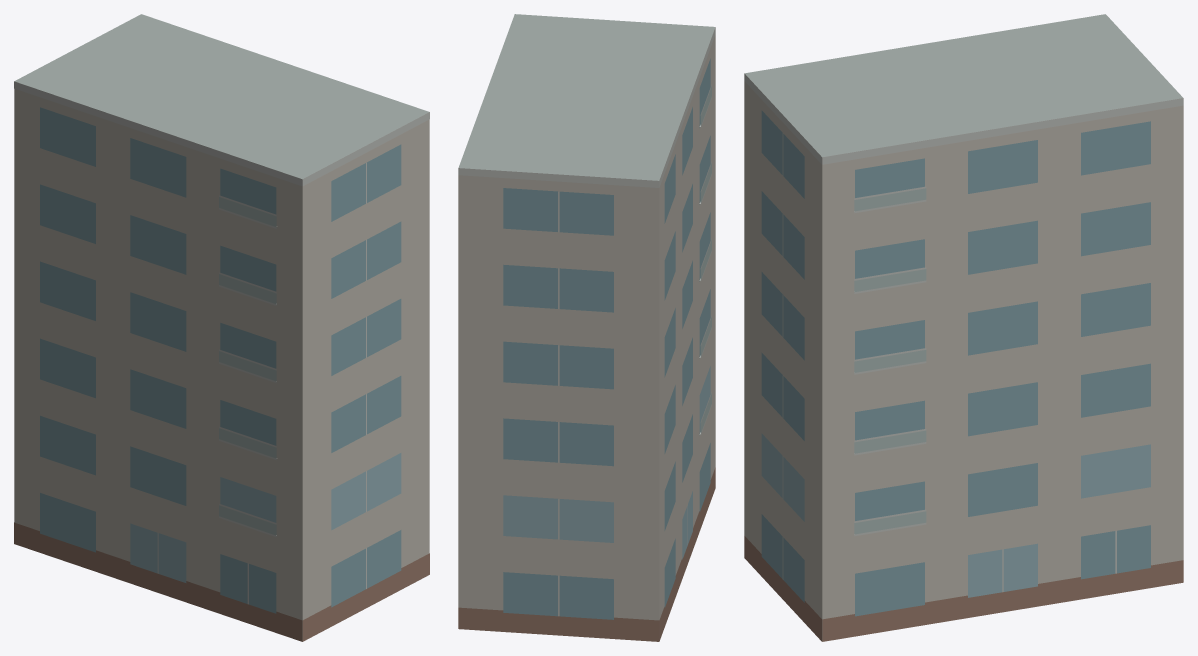
File: survey-upis-32946418.glb
The picture shows the model from 3 angles, left to right: view 1: azimuth 30°, elevation 25°; view 2: azimuth 150°, elevation 25°; view 3: azimuth 270°, elevation 25°; orthographic projection. The views are drawn at different scales.
Visible parts, largest first — view 1: survey-upis-32946418.tmp; view 2: survey-upis-32946418.tmp; view 3: survey-upis-32946418.tmp.
Part boxes in pixels (left/top/right/bottom): survey-upis-32946418.tmp: left=14, top=14, right=429, bottom=641; survey-upis-32946418.tmp: left=458, top=14, right=715, bottom=641; survey-upis-32946418.tmp: left=744, top=14, right=1183, bottom=641.
Bounding box in the file's own units: 9.97 × 15.7 × 12.91.
